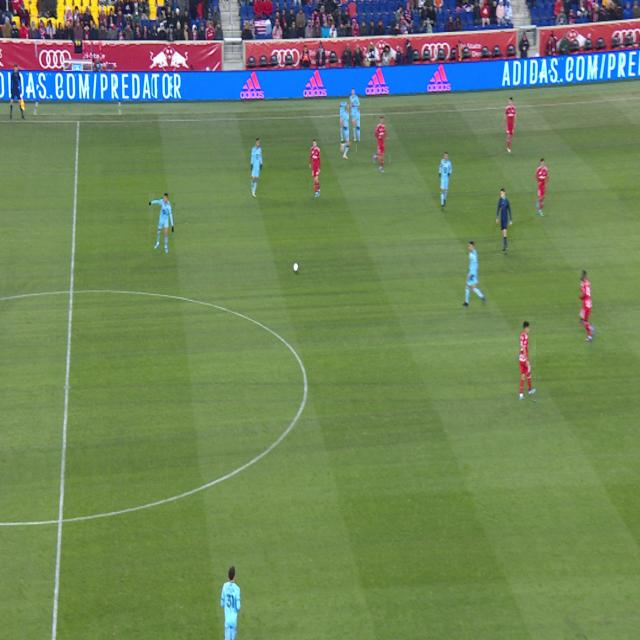football: (293, 263, 299, 272)
player: (462, 241, 485, 307), (149, 193, 174, 253), (221, 566, 241, 640), (519, 322, 536, 400), (578, 270, 595, 342), (341, 103, 356, 160), (374, 116, 389, 173), (501, 97, 516, 153), (535, 159, 549, 215), (439, 151, 452, 209), (309, 140, 321, 198), (251, 138, 262, 198), (350, 89, 360, 142)
referee: (496, 188, 513, 253)
